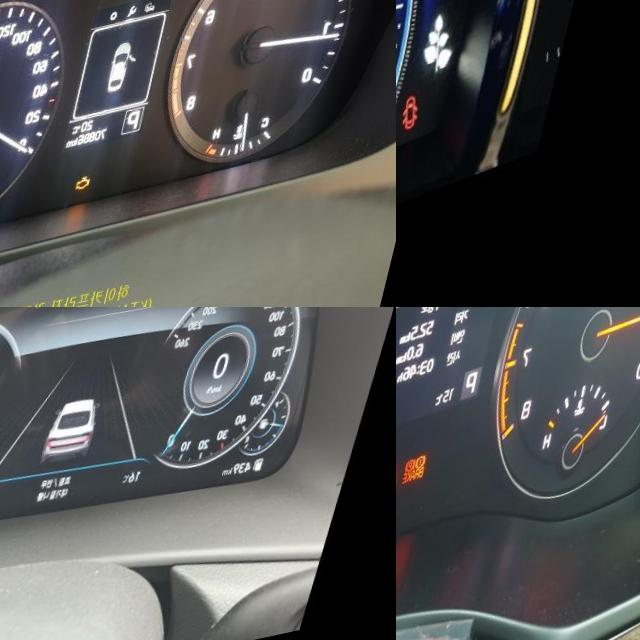Doors: (424, 110, 453, 153)
